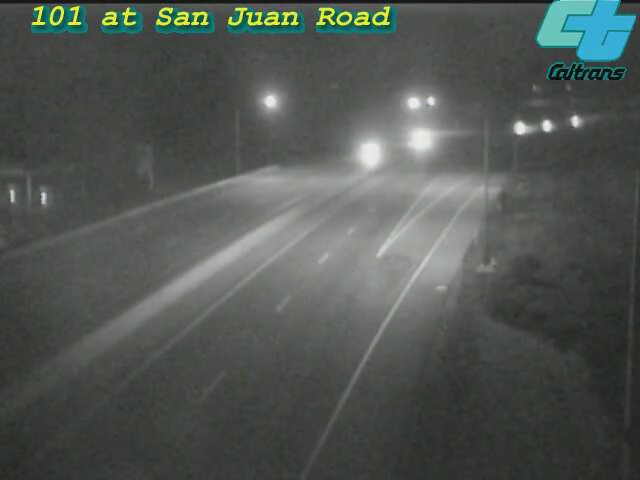vehicle: (345, 127, 395, 177), (394, 114, 444, 164), (550, 97, 600, 147), (524, 101, 574, 151), (491, 103, 541, 153)
